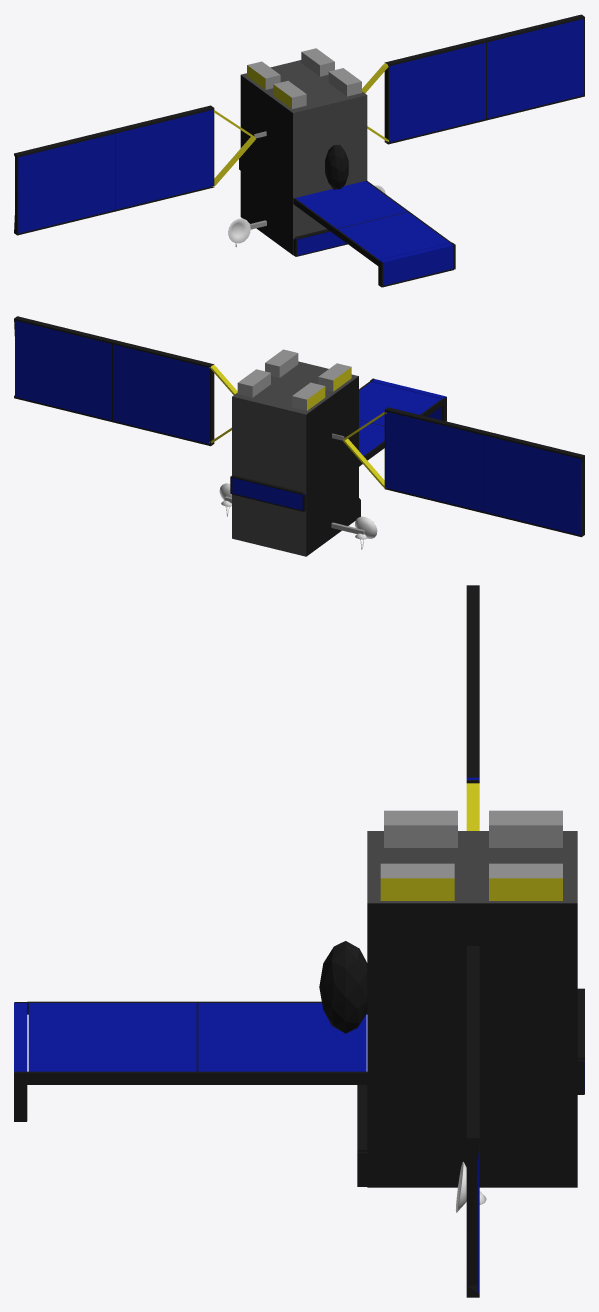
Rendered from sbirs.obj.
The picture shows the model from 3 angles, top to bottom: view 1: azimuth 30°, elevation 25°; view 2: azimuth 150°, elevation 25°; view 3: azimuth 270°, elevation 25°; orthographic projection. The views are drawn at different scales.
Parts seen in each view (by area): view 1: Cube.025, Cube.009, Cube.001, Cube.040, Cube.023, Cube.027, Cube.011, Cube.030, Cube.002, Cube.034, Icosphere, Cube.021 (+9 smaller); view 2: Cube.025, Cube.009, Cube.001, Cube.040, Cube.023, Cube.027, Cube.044, Cube.002, Cube.034, Cube.014, Cube.013, Cube.011 (+9 smaller); view 3: Cube.025, Cube.027, Cube.011, Cube.012, Icosphere, Cube.015, Cube, Cube.013, Cube.014, Cube.034, Cube.002, Cube.022 (+1 smaller).
Part boxes in pixels (box(x1,y1,x2,y2)): Cube.025: box(240, 60, 367, 254); Cube.009: box(15, 133, 115, 233); Cube.001: box(116, 110, 213, 209); Cube.040: box(389, 42, 485, 142); Cube.023: box(487, 19, 583, 118); Cube.027: box(338, 212, 449, 259); Cube.011: box(295, 181, 406, 228); Cube.030: box(380, 243, 453, 285); Cube.002: box(14, 105, 214, 157); Cube.034: box(384, 14, 584, 66); Icosphere: box(325, 144, 348, 189); Cube.021: box(295, 231, 346, 255); Cube.025: box(232, 361, 358, 556); Cube.009: box(483, 435, 581, 535); Cube.001: box(385, 411, 482, 511); Cube.040: box(113, 344, 209, 444); Cube.023: box(15, 320, 111, 420); Cube.027: box(359, 382, 440, 425); Cube.044: box(232, 478, 304, 510); Cube.002: box(384, 407, 584, 459); Cube.034: box(14, 316, 214, 367); Cube.014: box(237, 369, 270, 397); Cube.013: box(292, 382, 325, 410); Cube.011: box(359, 420, 384, 455); Cube.025: box(367, 831, 577, 1187); Cube.027: box(28, 1003, 196, 1071); Cube.011: box(198, 1003, 366, 1071); Cube.012: box(27, 1071, 367, 1084); Icosphere: box(319, 941, 367, 1033); Cube.015: box(380, 863, 454, 900); Cube: box(384, 810, 457, 847); Cube.013: box(489, 810, 562, 847); Cube.014: box(489, 863, 562, 900); Cube.034: box(466, 946, 479, 1141); Cube.002: box(466, 585, 479, 780); Cube.022: box(466, 1141, 479, 1293).
Bounding box in the file's own units: 14.9 × 3.96 × 6.49.
